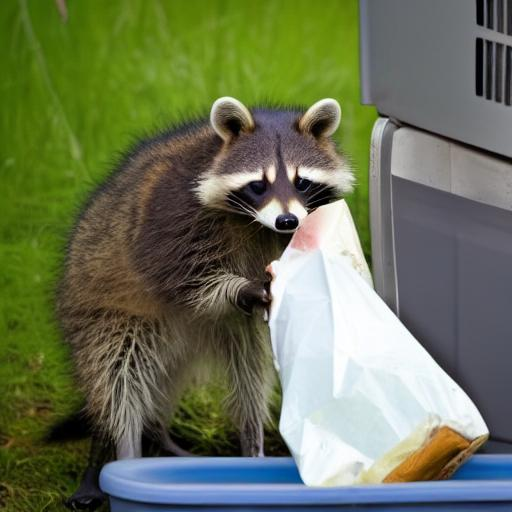raccoon: (44, 87, 362, 437)
